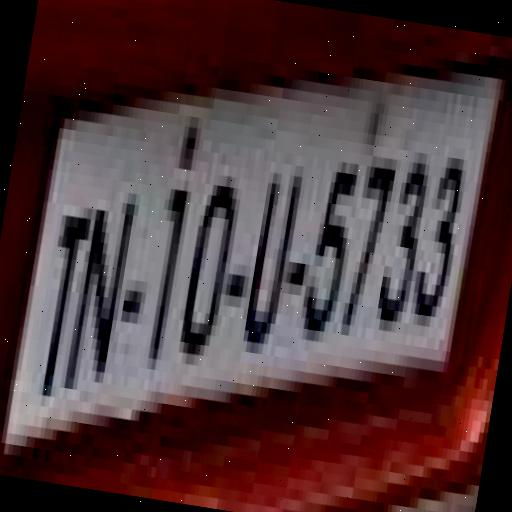number plate: (0, 47, 507, 512)
